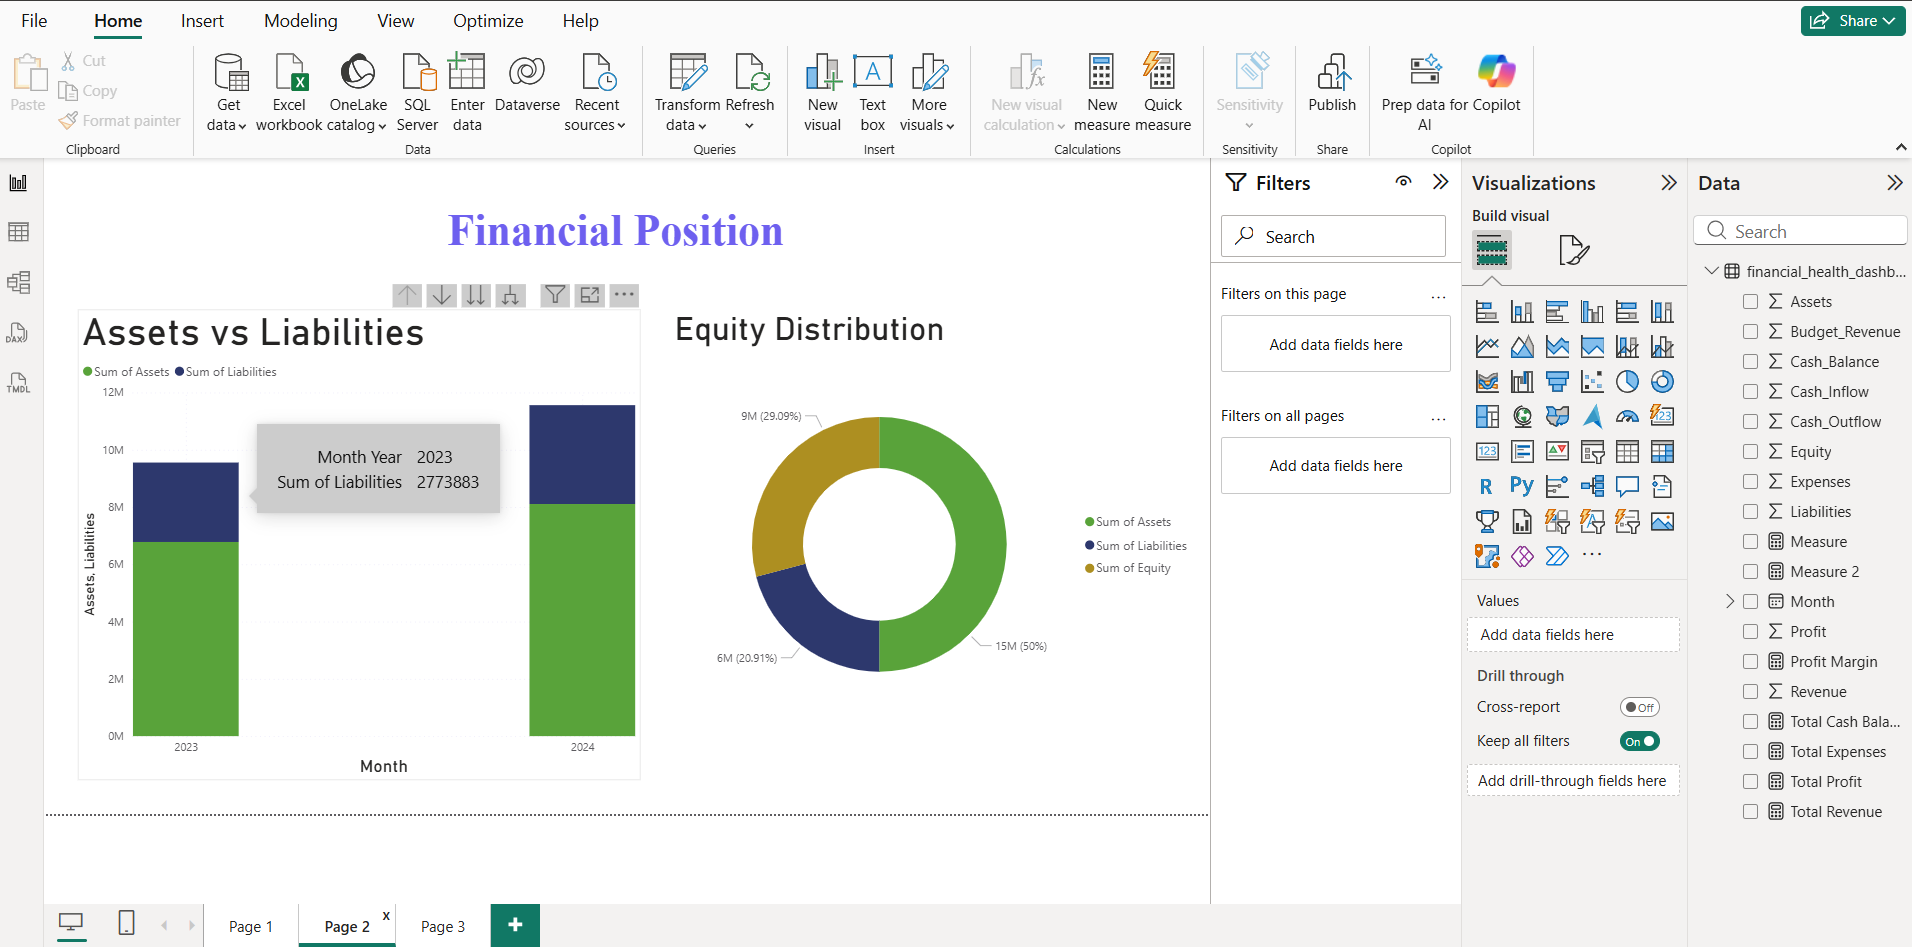

This screenshot's page, from the dashboard's own definition file:
{"tool":"powerbi","page":{"name":"Page 2","canvas":[1280,720],"ordinal":1},"visuals":[{"type":"donutChart","title":"Equity Distribution","fields":{"Y":["Sum(financial_health_dashboard_dataset.Assets)","Sum(financial_health_dashboard_dataset.Liabilities)","Sum(financial_health_dashboard_dataset.Equity)"]},"box":[687.1,165.7,581.4,475.7],"z":0},{"type":"columnChart","title":"Assets vs Liabilities","fields":{"Category":["financial_health_dashboard_dataset.Month.Variation.Date Hierarchy.Year","financial_health_dashboard_dataset.Month.Variation.Date Hierarchy.Quarter","financial_health_dashboard_dataset.Month.Variation.Date Hierarchy.Month","financial_health_dashboard_dataset.Month.Variation.Date Hierarchy.Day"],"Y":["Sum(financial_health_dashboard_dataset.Assets)","Sum(financial_health_dashboard_dataset.Liabilities)"]},"box":[37.1,165.7,617.1,517.1],"z":1000},{"type":"textbox","box":[37.1,48.6,1181.4,90],"z":1001}]}

Visuals, with their boxes on the page's 1280x720 design canvas (x1, y1, x2, y2). These are canvas units, not pixel positions in the 1912x947 screenshot, which may show the page scaled, cropped or inside an application window:
"Equity Distribution" donutChart: {"x1": 687, "y1": 166, "x2": 1268, "y2": 641}
"Assets vs Liabilities" columnChart: {"x1": 37, "y1": 166, "x2": 654, "y2": 683}
textbox: {"x1": 37, "y1": 49, "x2": 1218, "y2": 139}
